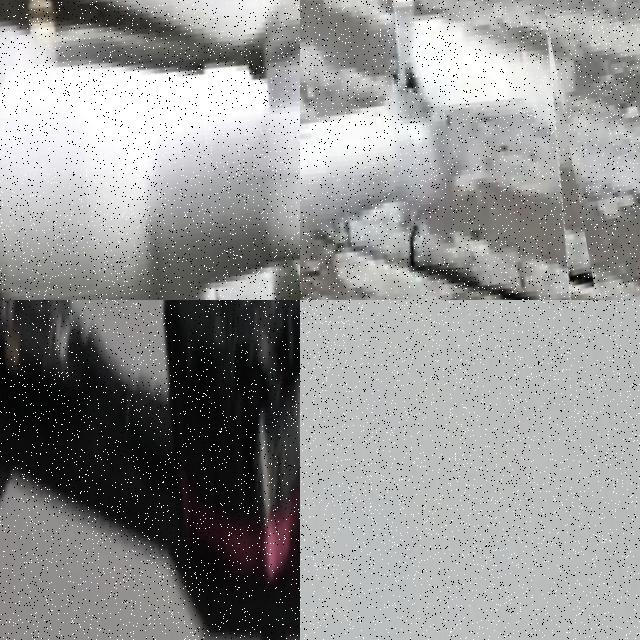drone: (0, 300, 300, 640), (300, 0, 603, 300), (0, 0, 300, 300)
